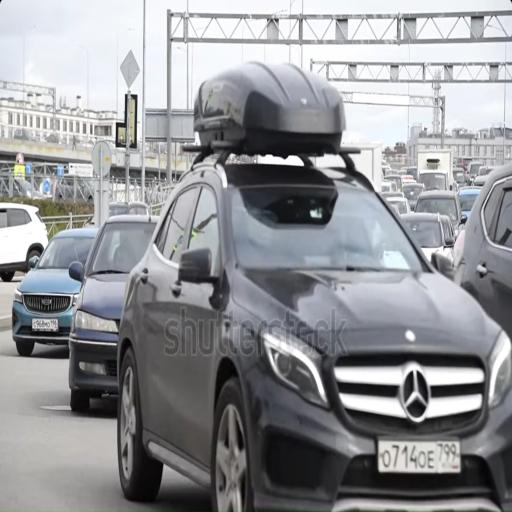License plates: (378, 440, 460, 473), (32, 319, 58, 331)
